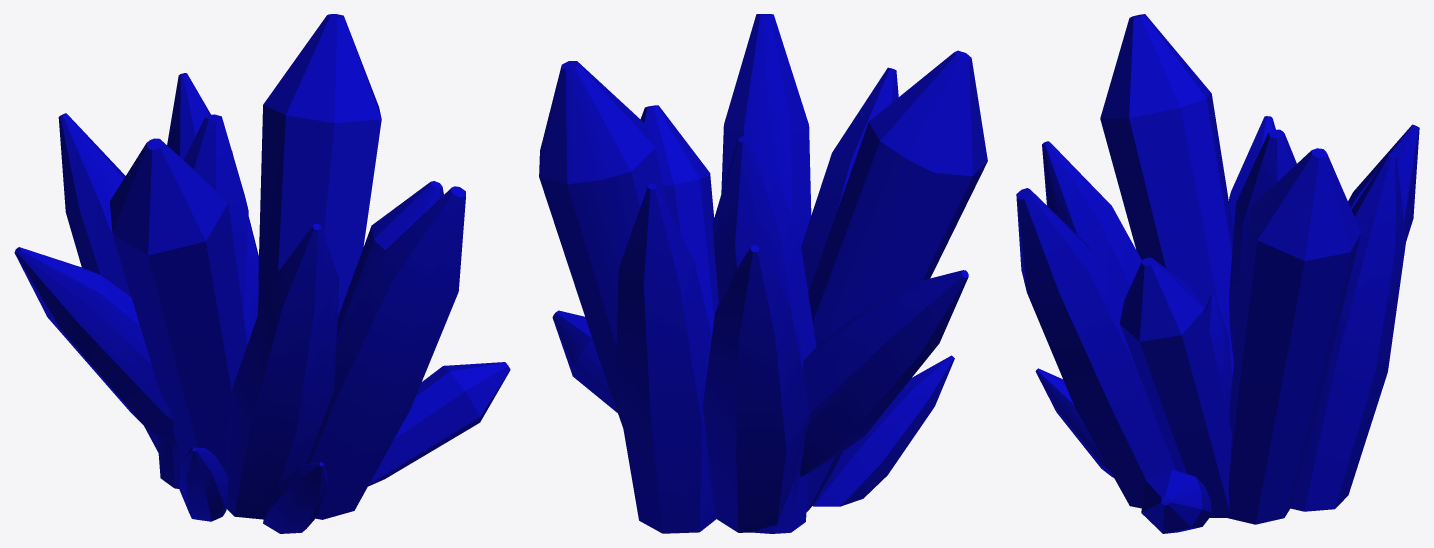
The model's file is Crystal_Dark_Blue_01.fbx.
3 views of the same model, side by side, from view 1: azimuth 30°, elevation 25°; view 2: azimuth 150°, elevation 25°; view 3: azimuth 270°, elevation 25° (orthographic). The views are drawn at different scales.
Visible parts, largest first — view 1: Crystal_Dark_Blue_01; view 2: Crystal_Dark_Blue_01; view 3: Crystal_Dark_Blue_01.
Boxes of the visible parts, x1,y1,x2,y2 form: Crystal_Dark_Blue_01: [14, 14, 510, 533]; Crystal_Dark_Blue_01: [539, 14, 987, 533]; Crystal_Dark_Blue_01: [1016, 14, 1419, 533].
Size of the model in its own units: 42.46 by 38.07 by 34.75.
